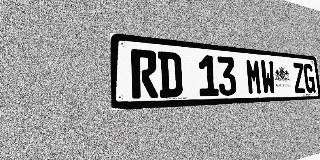1: (197, 54, 219, 96)
3: (217, 56, 237, 96)
D: (158, 51, 183, 98)
G: (303, 63, 316, 93)
M: (245, 58, 262, 95)
R: (130, 49, 158, 99)
W: (260, 60, 276, 94)
Z: (292, 62, 306, 93)
